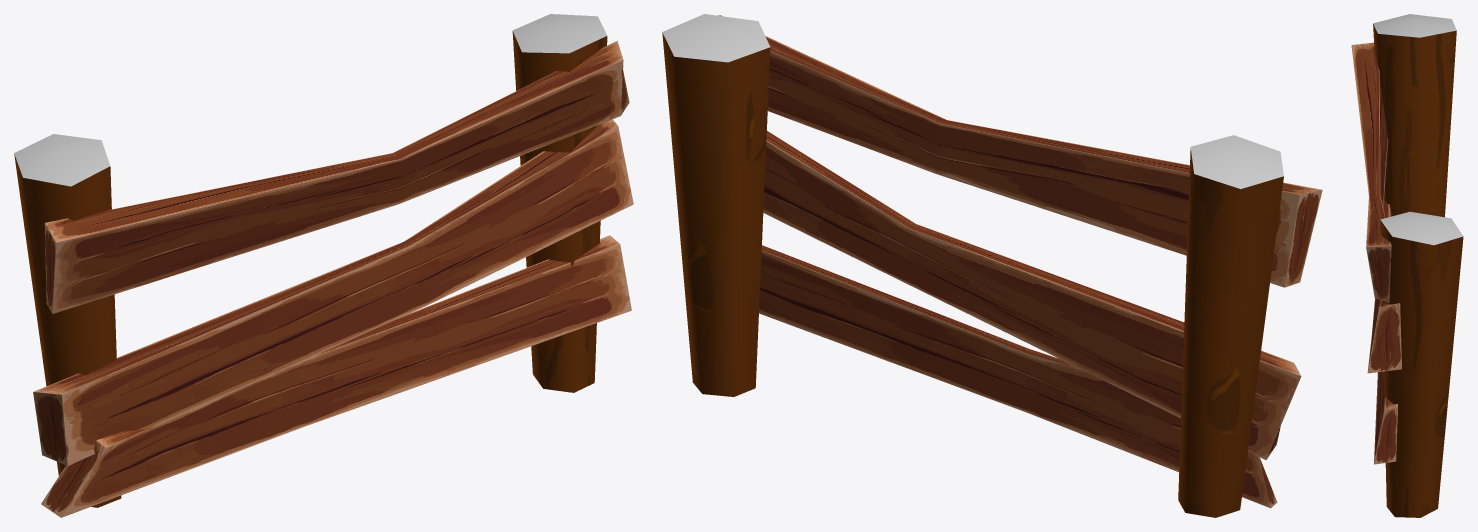
File: SM_PROP_fence_v02_03.fbx
3 renders of one model, left to right at view 1: azimuth 30°, elevation 25°; view 2: azimuth 150°, elevation 25°; view 3: azimuth 270°, elevation 25°, orthographic. The views are drawn at different scales.
Parts seen in each view (by area): view 1: SM_PROP_fence_v02_03; view 2: SM_PROP_fence_v02_03; view 3: SM_PROP_fence_v02_03.
Boxes of the visible parts, left/top/right/bottom form: SM_PROP_fence_v02_03: left=14, top=14, right=633, bottom=517; SM_PROP_fence_v02_03: left=662, top=14, right=1322, bottom=517; SM_PROP_fence_v02_03: left=1351, top=14, right=1463, bottom=517.
Size of the model in its own units: 209 by 117 by 41.15.
